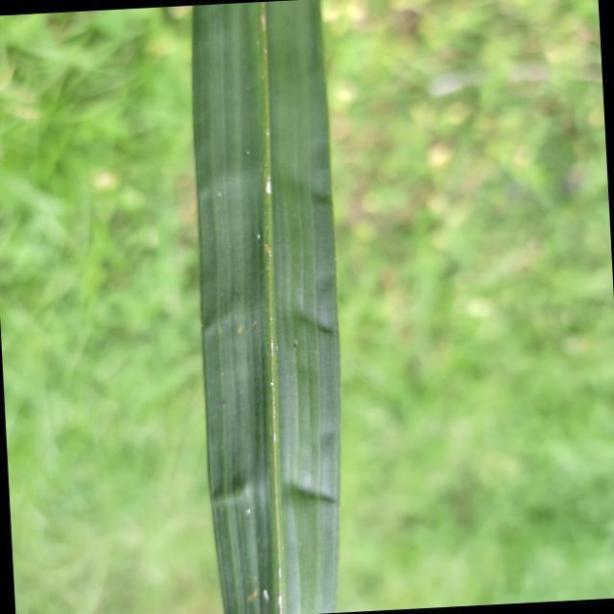Boron: (187, 0, 341, 614)
